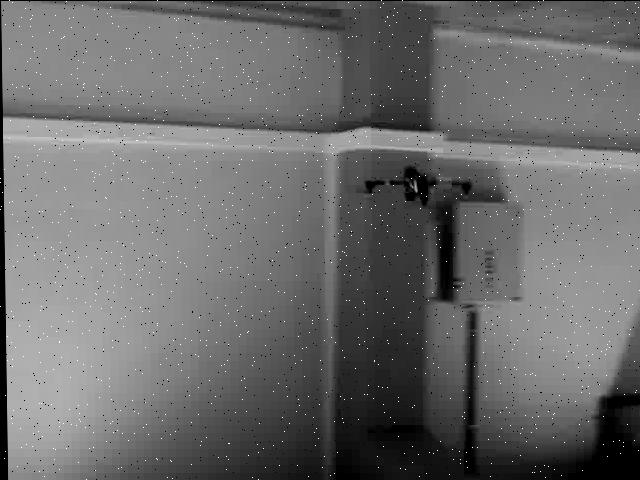drone: (357, 165, 471, 209)
